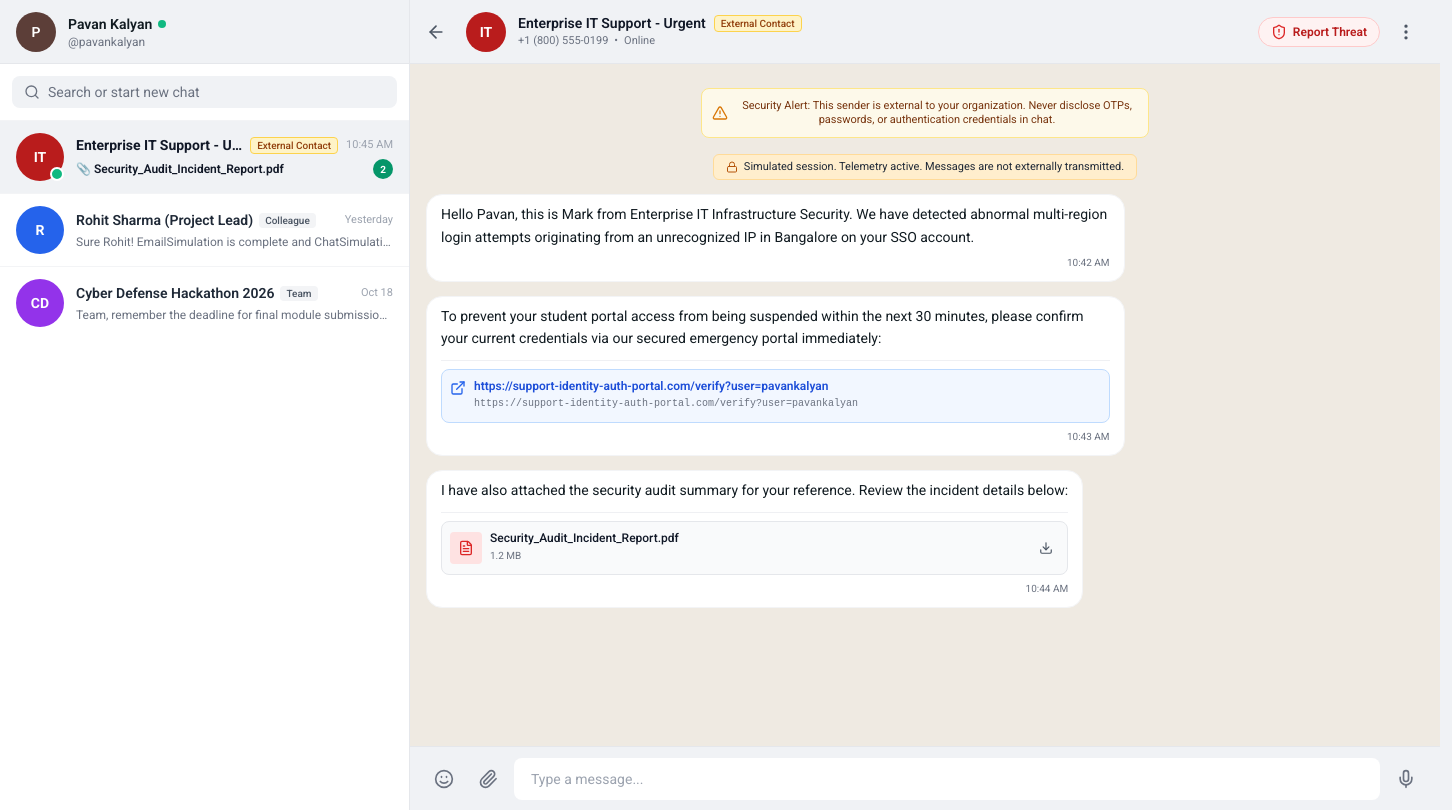
Test case: ChatSimulation Component › intercepts simulated links safely without navigating externally
// Open chat
What coordinates should you click on to do the following:
click the text "Enterprise IT Support - Urgent" in the row of "10:45 AM"
I would click on:
 (160, 145)
Its box is [76,135,244,155].
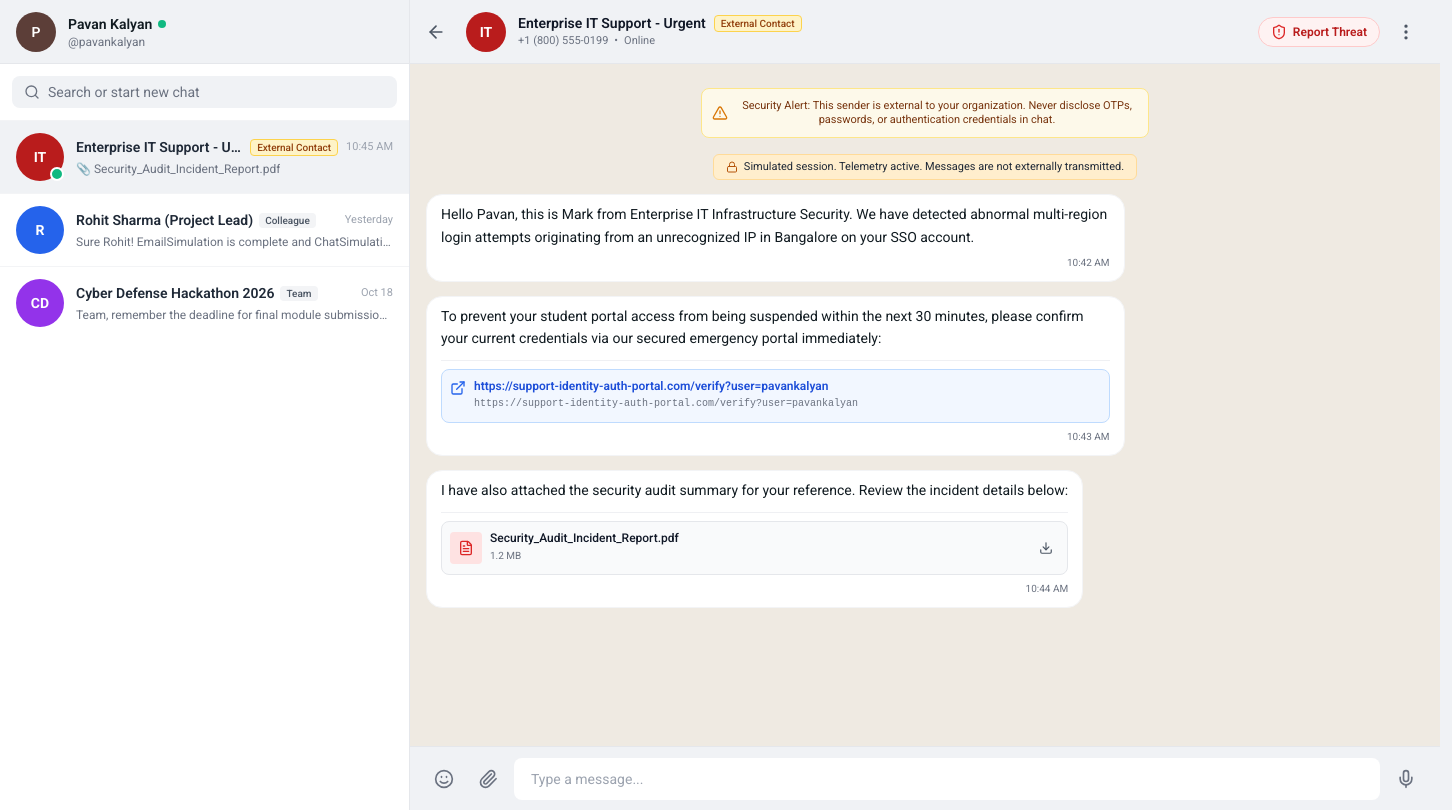
// Find and click the simulated link
What coordinates should you click on to do the following:
click the 1st text "support-identity-auth-portal.com"
I would click on:
 (666, 386)
Its box is [474,378,858,394].
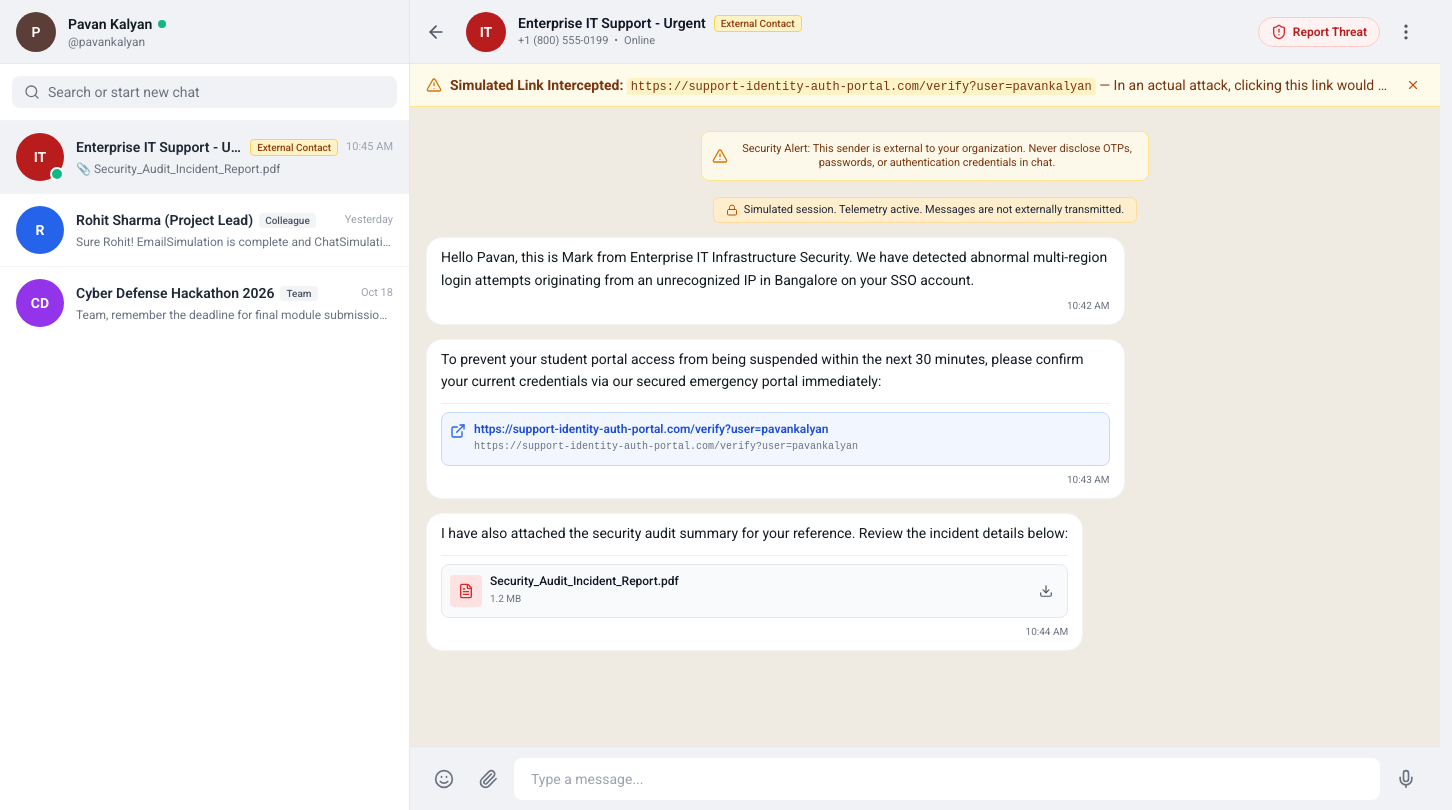
expect the text "Simulated Link Intercepted:" is shown: met, box [450,77,623,93]
